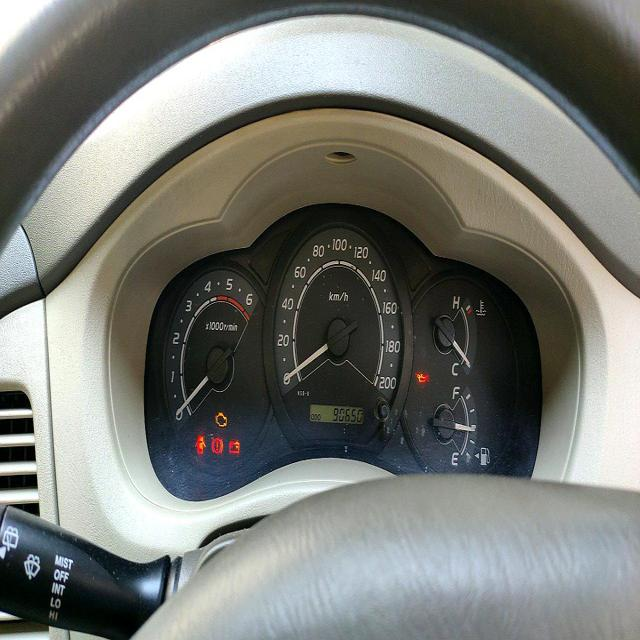odometer: (332, 405, 363, 424)
